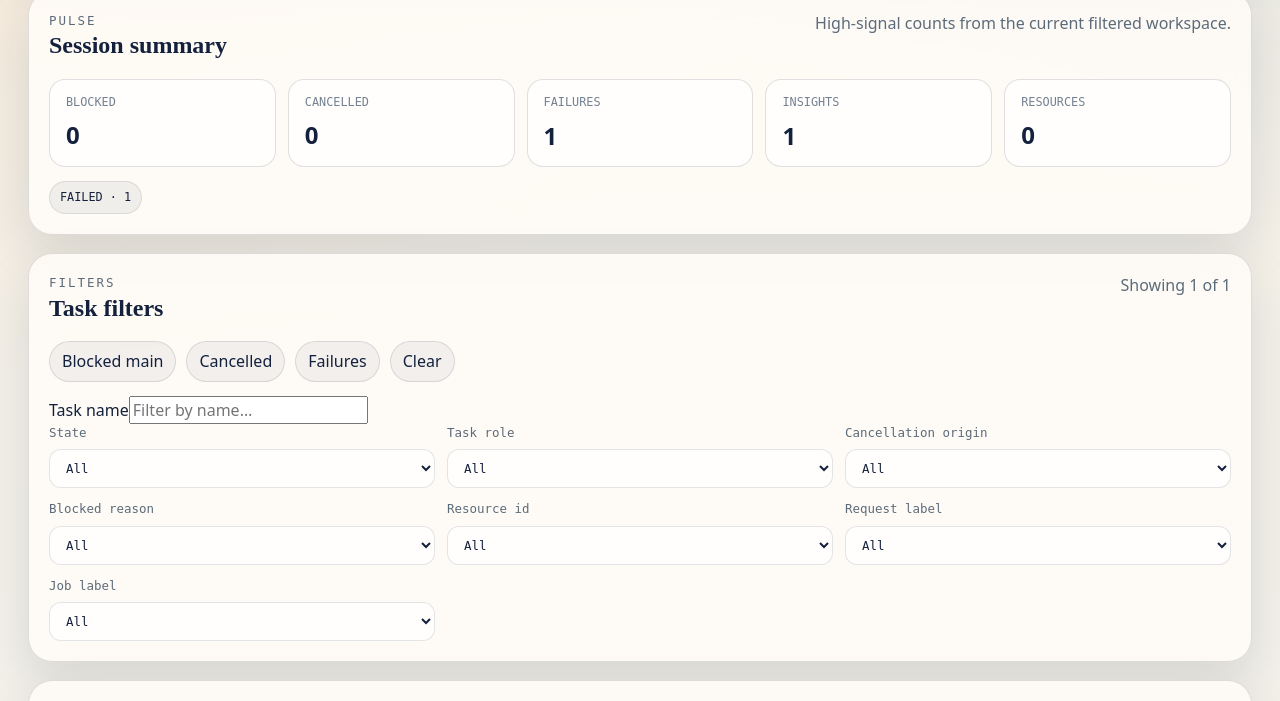
Test: App › opens the error drilldown from the failures preset
(page scrolled)
Click the button "Failures" at [337, 361], box [295,341,380,381]
(page scrolled)
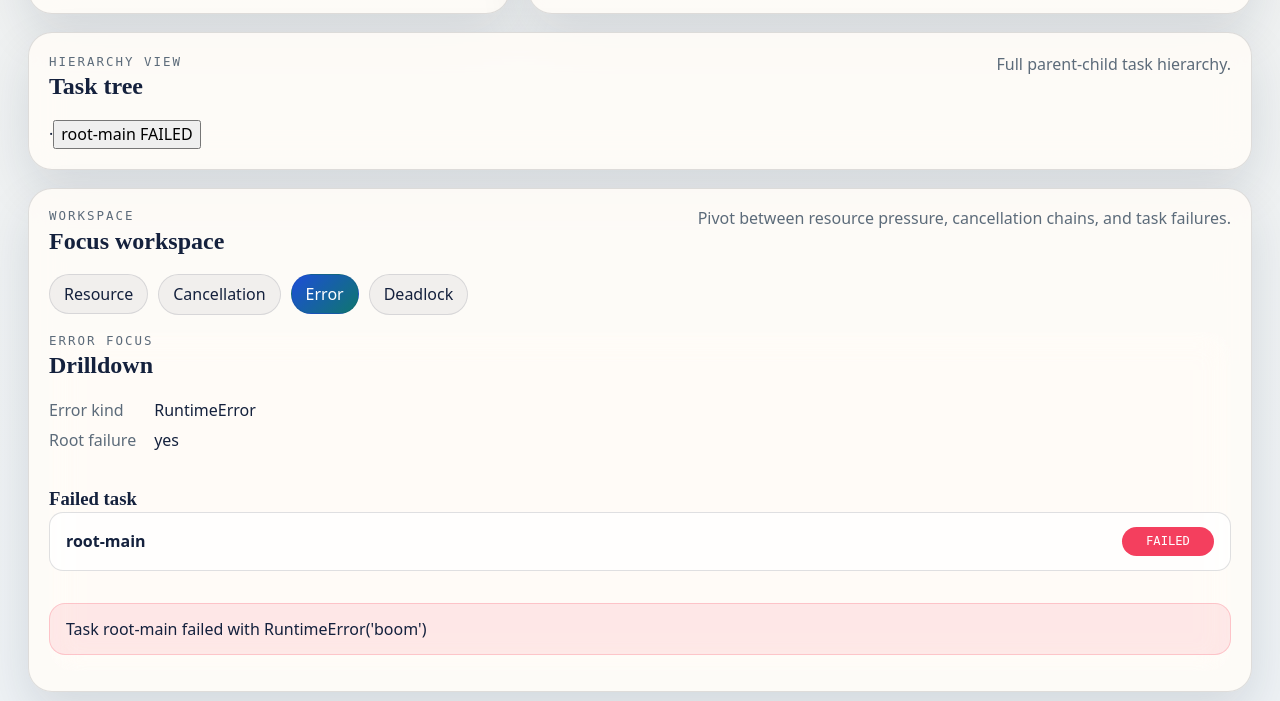
Expected: the text "yes" is shown, [154,430,179,452]
Expected: the button "root-main FAILED" below "Root failure" is shown, [49,512,1231,571]
Expected: the text "RuntimeError" is shown, [154,399,256,421]
